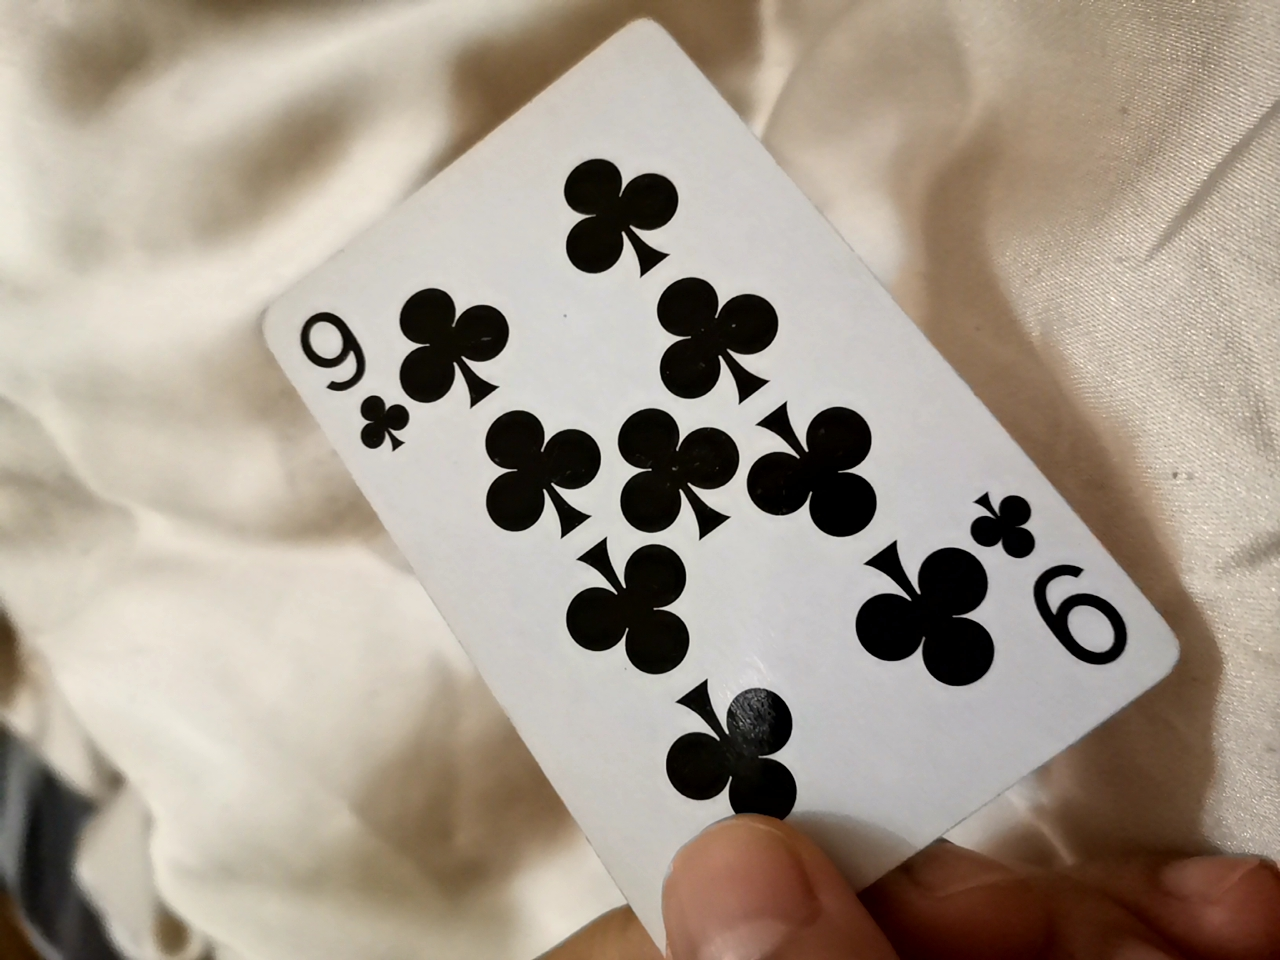mh 9: (213, 10, 1159, 932)
